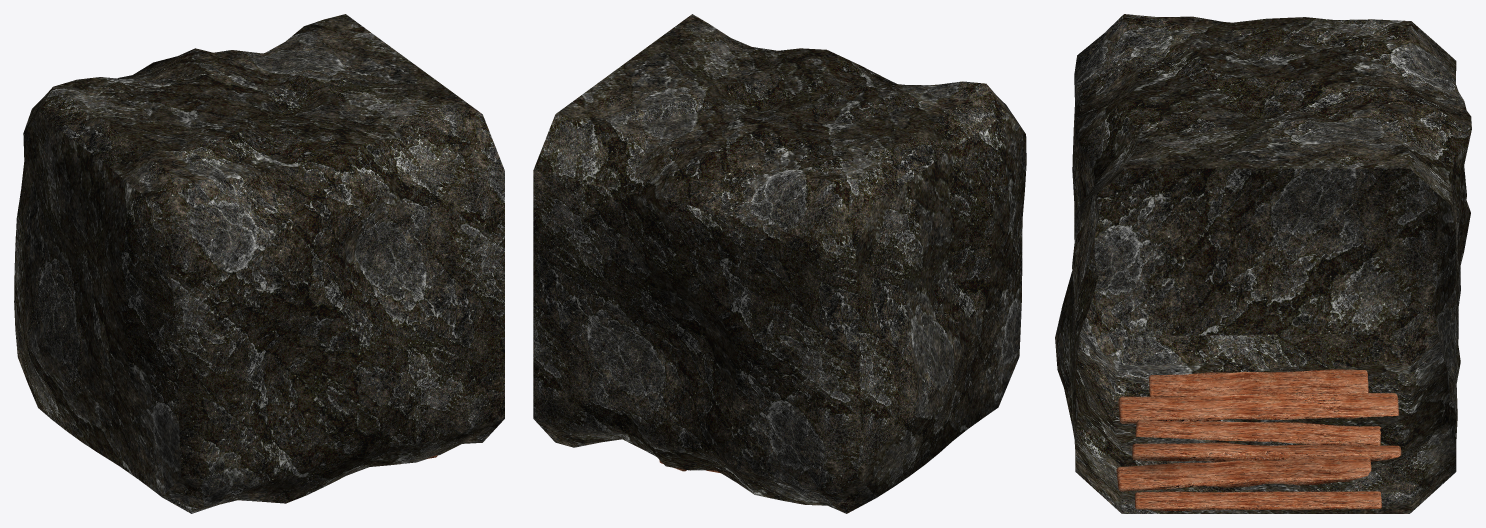
Rendered from Cave_041.fbx.
3 renders of one model, left to right at view 1: azimuth 30°, elevation 25°; view 2: azimuth 150°, elevation 25°; view 3: azimuth 270°, elevation 25°, orthographic. The views are drawn at different scales.
Parts seen in each view (by area): view 1: Cave.041; view 2: Cave.041; view 3: Cave.041.
Boxes of the visible parts, x1,y1,x2,y2 form: Cave.041: [14, 14, 504, 513]; Cave.041: [533, 14, 1026, 513]; Cave.041: [1055, 14, 1471, 513].
Bounding box in the file's own units: 326 × 313 × 328.
